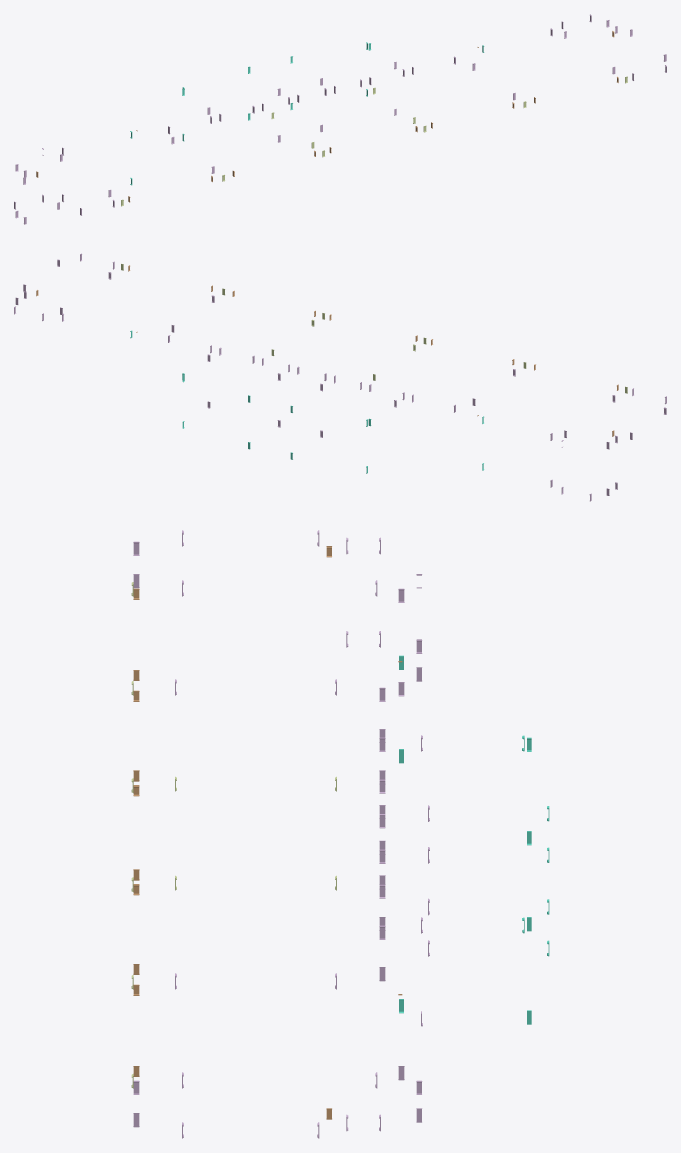
The picture shows the model from 3 angles, top to bottom: view 1: azimuth 30°, elevation 25°; view 2: azimuth 150°, elevation 25°; view 3: azimuth 270°, elevation 25°; orthographic projection. The views are drawn at different scales.
Bounding box in the file's own units: 39.64 × 3.34 × 11.77.
